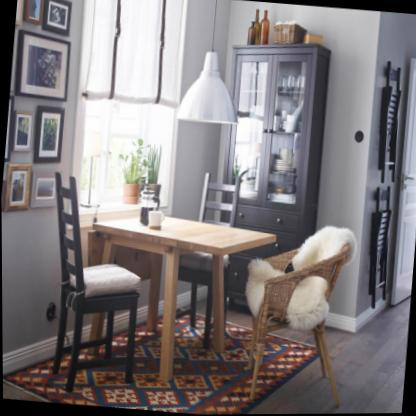Chair: (35, 170, 151, 397), (235, 215, 362, 415)
Table: (77, 205, 281, 392)
